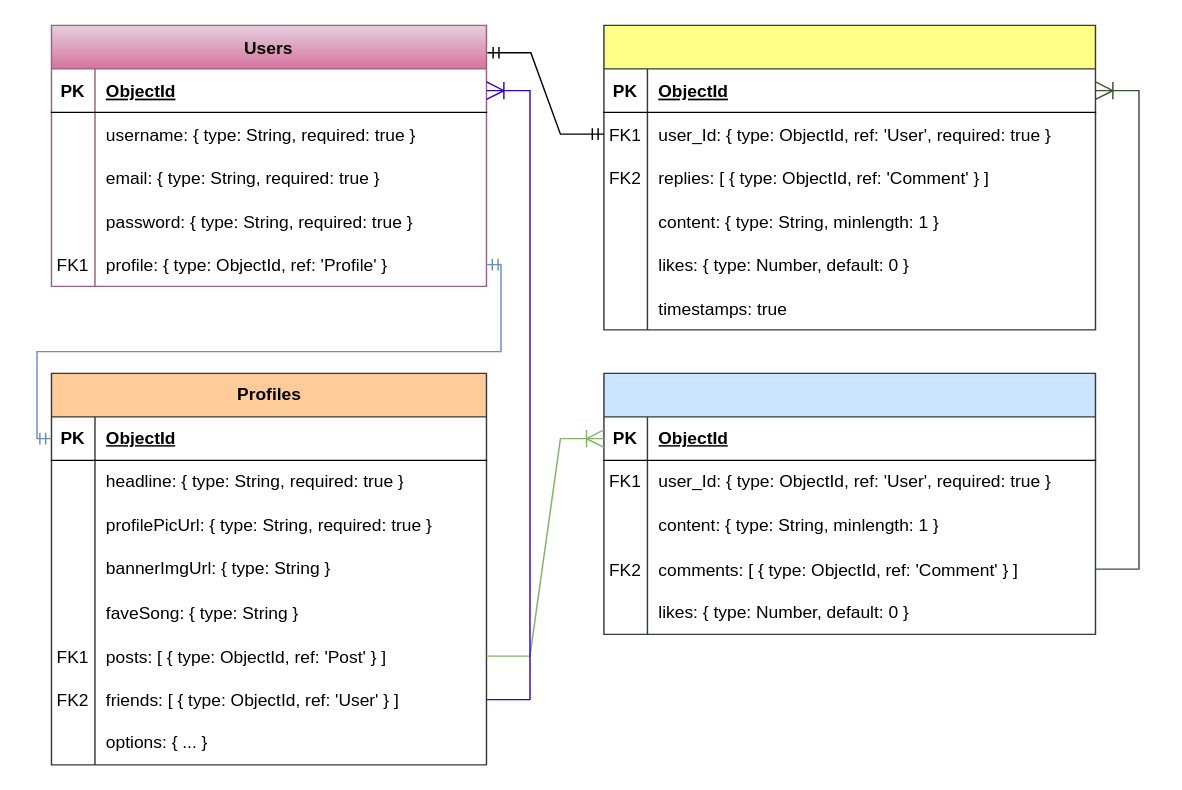
Image size: 1182x790. Some labels were removed from this diagram. The shapes that lost their labels are listed below. From the top down, each one's box as (x1, y1, x2, y2) in pixels, then its label:
(602, 24, 1095, 330): Comments
(602, 372, 1095, 634): Posts
